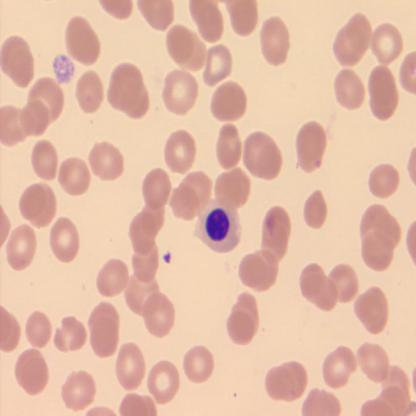NRC: (191, 196, 243, 256)
